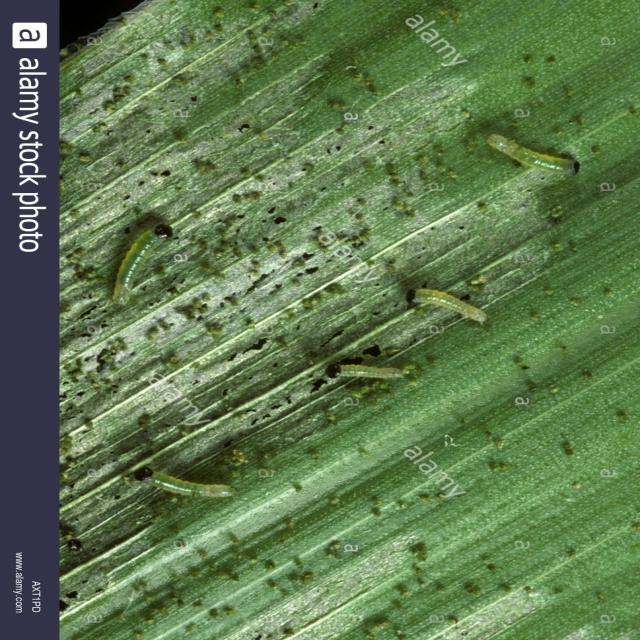army worm: (108, 220, 175, 312), (481, 129, 588, 175), (137, 468, 239, 509), (403, 288, 498, 326), (327, 360, 413, 391)
